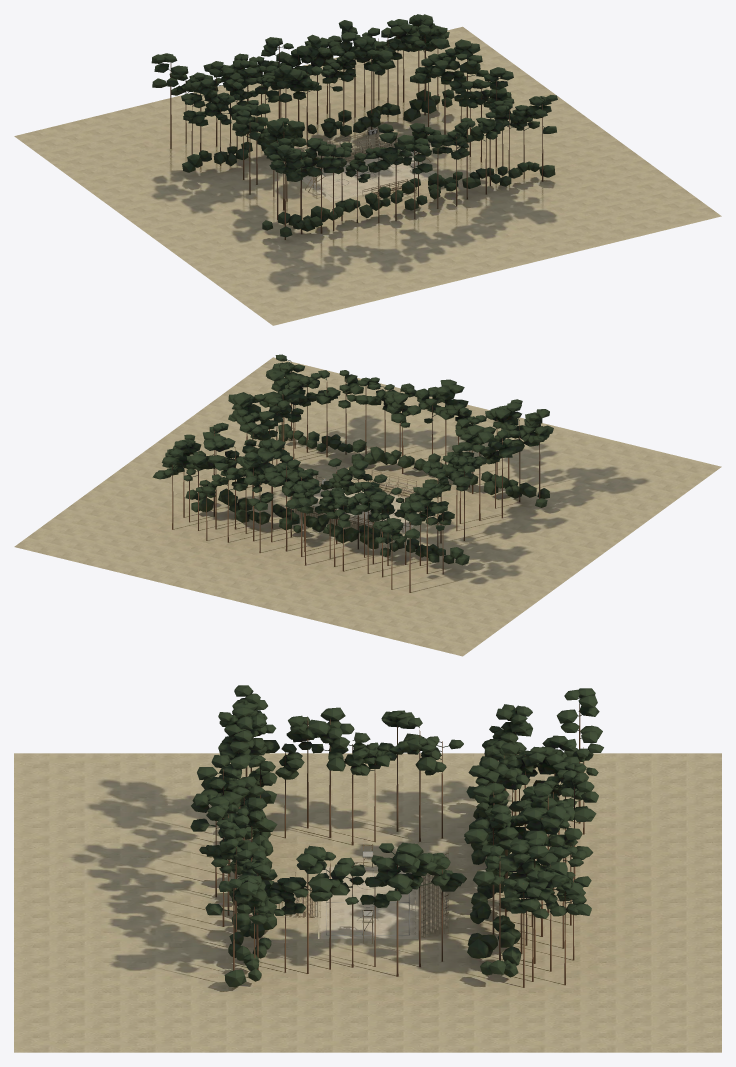
Rendered from naismith-berlin-1936-mobile.glb.
3 renders of one model, top to bottom at view 1: azimuth 30°, elevation 25°; view 2: azimuth 150°, elevation 25°; view 3: azimuth 270°, elevation 25°, orthographic. The views are drawn at different scales.
Visible parts, largest first — view 1: ground, pine_crowns, understory, pine_trunks, artifact_court, artifact_main_stand; view 2: ground, pine_crowns, understory, pine_trunks, artifact_court; view 3: ground, pine_crowns, understory, pine_trunks, artifact_court, artifact_main_stand.
Part boxes in pixels (box(x1,y1,x2,y2)): ground: box(14, 26, 721, 325); pine_crowns: box(151, 14, 557, 182); understory: box(182, 89, 555, 237); pine_trunks: box(170, 24, 543, 239); artifact_court: box(302, 150, 435, 202); artifact_main_stand: box(285, 129, 398, 168); ground: box(14, 357, 721, 656); pine_crowns: box(152, 354, 553, 543); understory: box(185, 424, 549, 565); pine_trunks: box(172, 362, 540, 592); artifact_court: box(310, 487, 422, 533); ground: box(14, 753, 721, 1052); pine_crowns: box(190, 685, 603, 924); understory: box(224, 785, 521, 987); pine_trunks: box(215, 703, 584, 987); artifact_court: box(318, 866, 417, 938); artifact_main_stand: box(415, 847, 448, 936).
Size of what is drawn, in the model's own units: 120 by 24.96 by 120.
3 materials, 2 textured.
